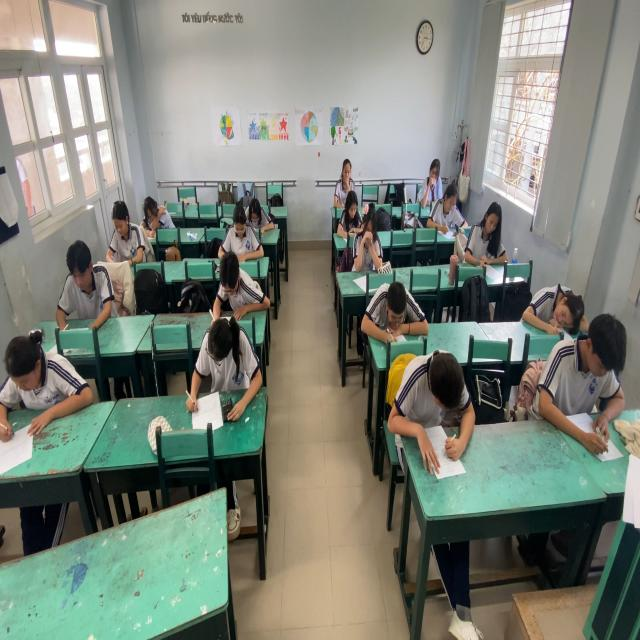not_cheating: (3, 329, 87, 426), (554, 326, 633, 419), (392, 342, 470, 432), (193, 315, 250, 381), (462, 194, 505, 264), (62, 243, 105, 312), (528, 274, 584, 326), (212, 247, 258, 308), (377, 280, 421, 329), (108, 202, 141, 264), (225, 201, 260, 257), (351, 208, 382, 264), (332, 153, 363, 195), (433, 185, 468, 222), (136, 195, 170, 232), (420, 153, 440, 205), (244, 199, 274, 232), (340, 188, 361, 229)
